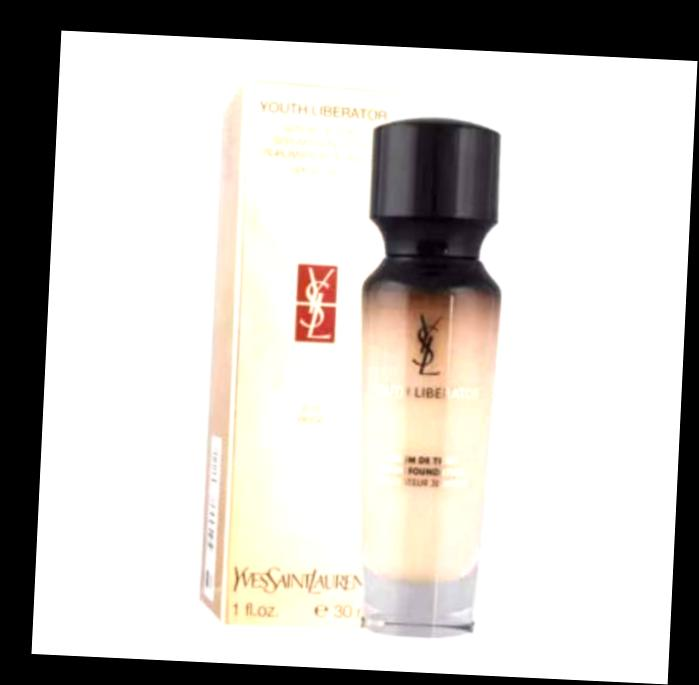cosmetic: (344, 123, 510, 640)
